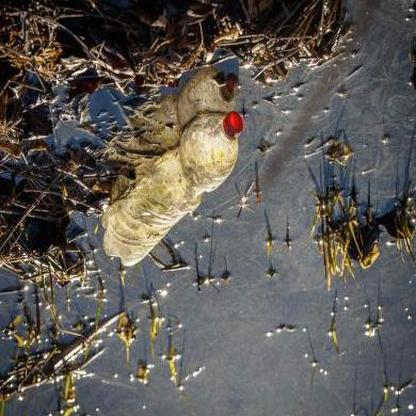plastic bottle: (100, 113, 245, 266)
